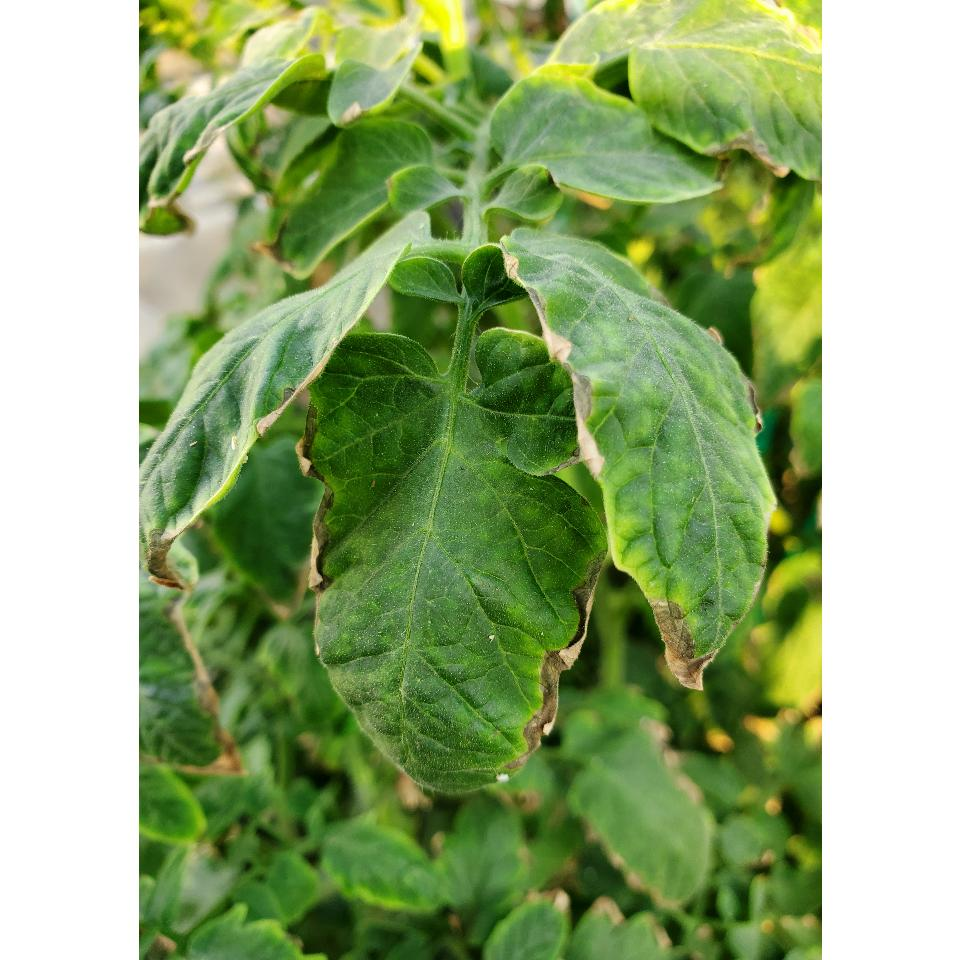tomato_bacterial_blight: (292, 326, 608, 802), (500, 211, 810, 693)
